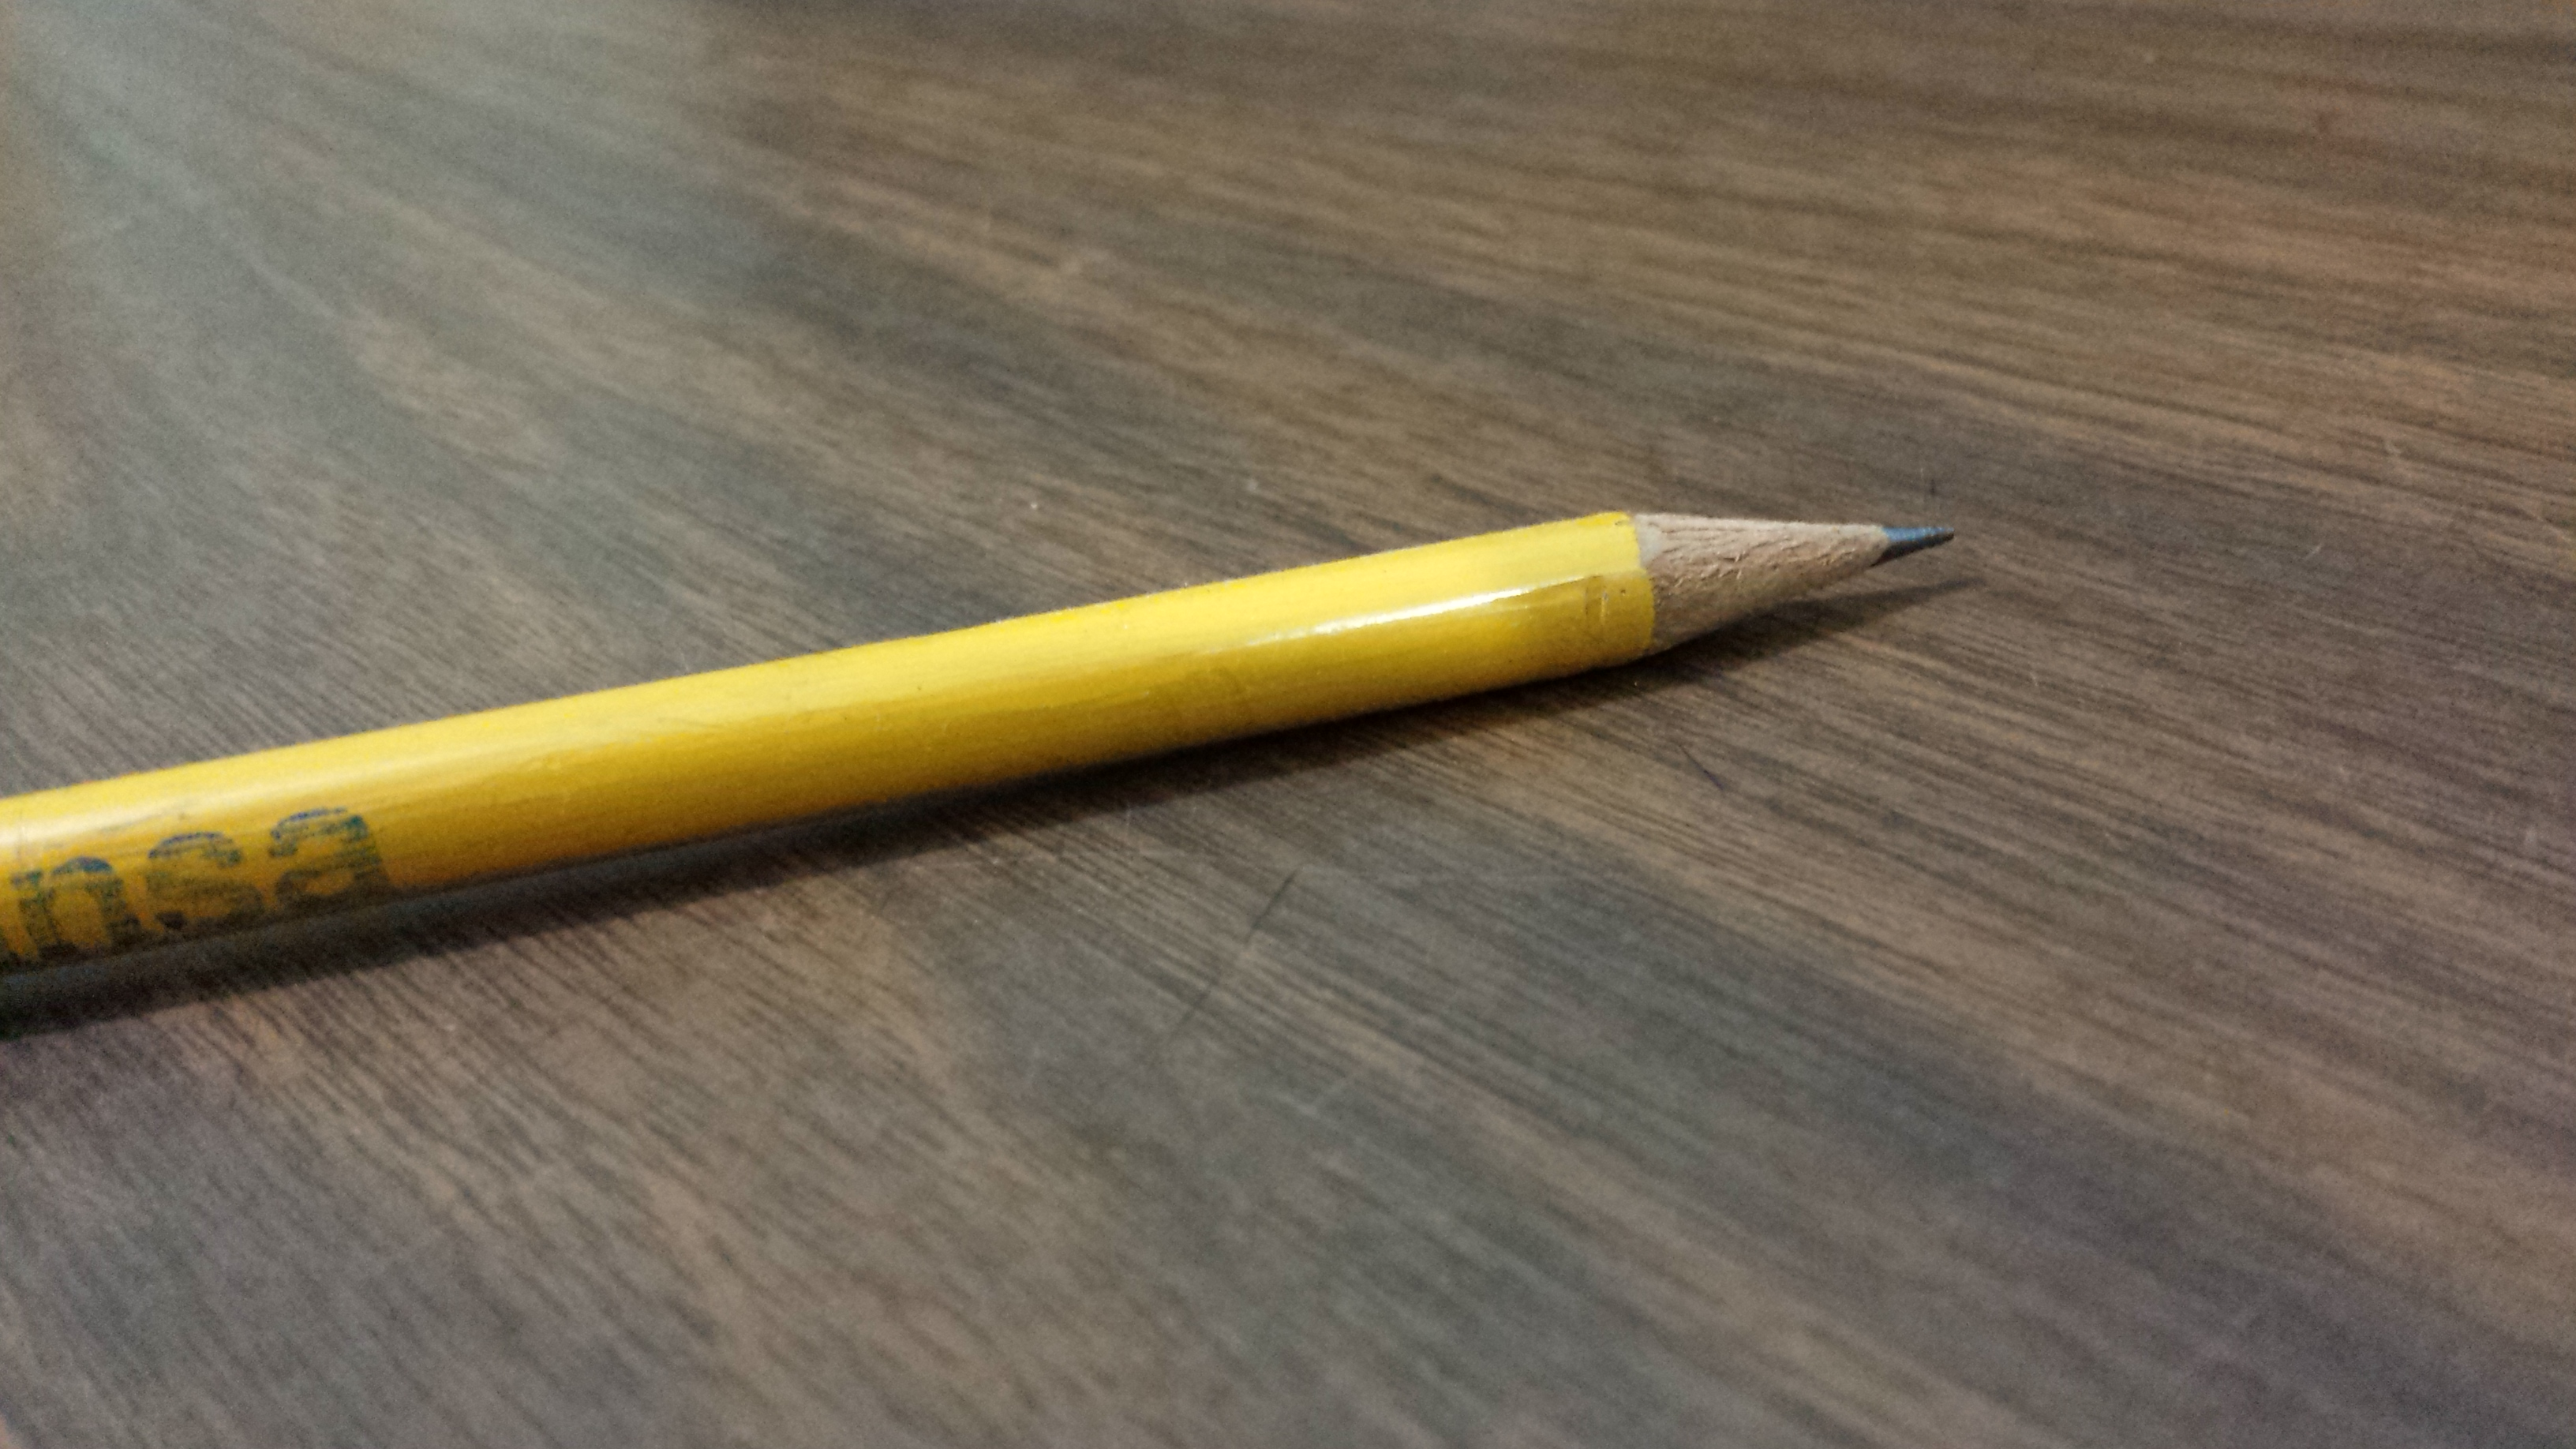pen_tip: (1546, 412, 1990, 754)
